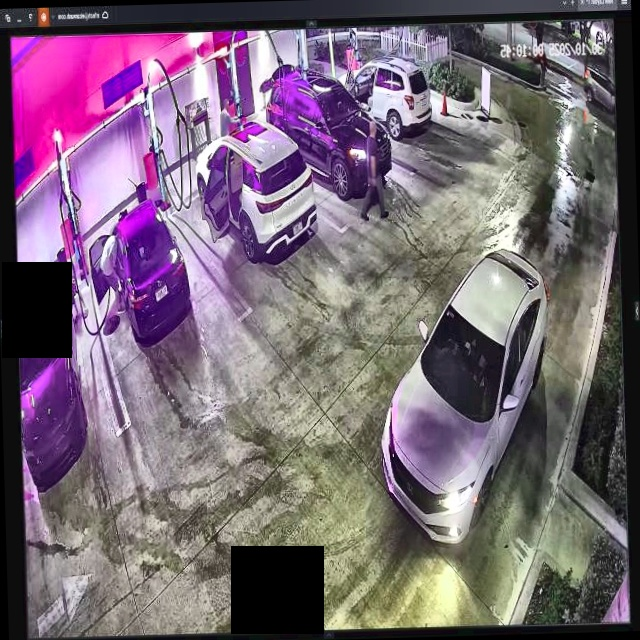Car: (376, 247, 557, 548), (264, 62, 391, 203), (196, 112, 314, 263), (86, 199, 190, 342), (337, 61, 432, 144)
